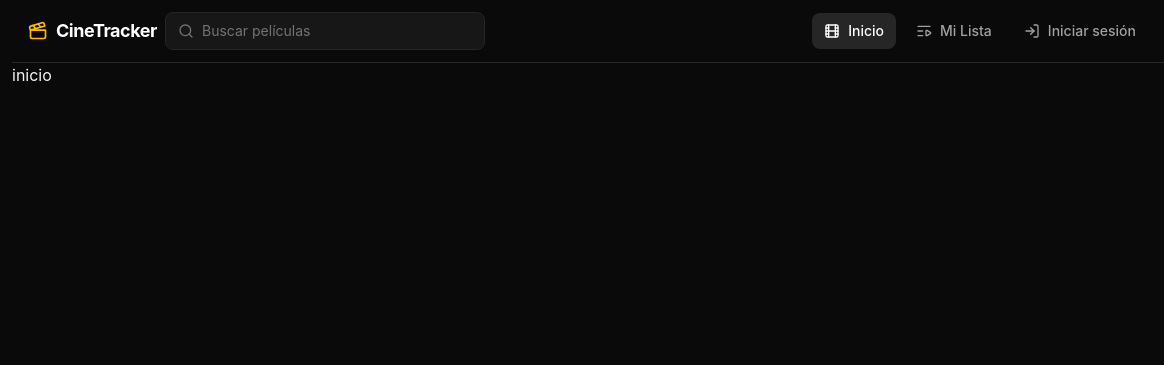
Navbar suggestions › lists the recent searches before the trending ones
Focus the dropdown labelled "Buscar películas": [337, 31] box [202,21,472,41]
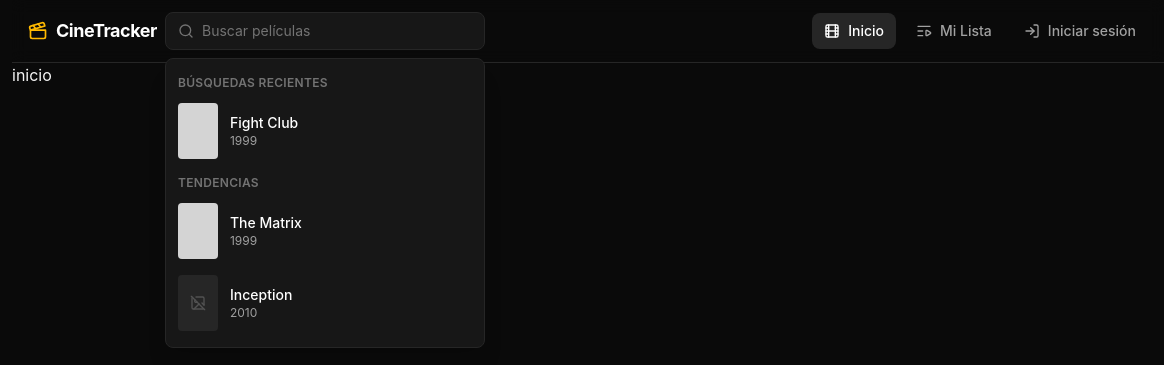
Expected: the text "Búsquedas recientes" is shown, [178,75,328,90]
Expected: the option "Fight Club 1999" is shown, [178,103,298,159]
Expected: the option "The Matrix 1999" is shown, [178,203,302,259]
